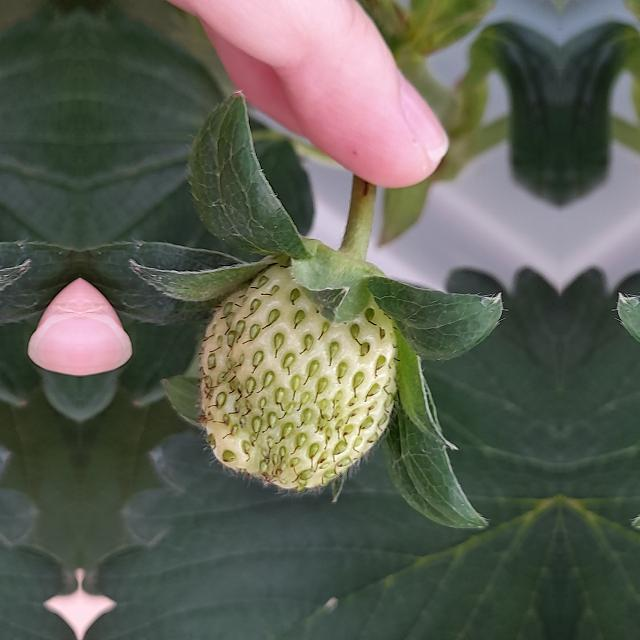Health_25: (196, 260, 400, 498)
